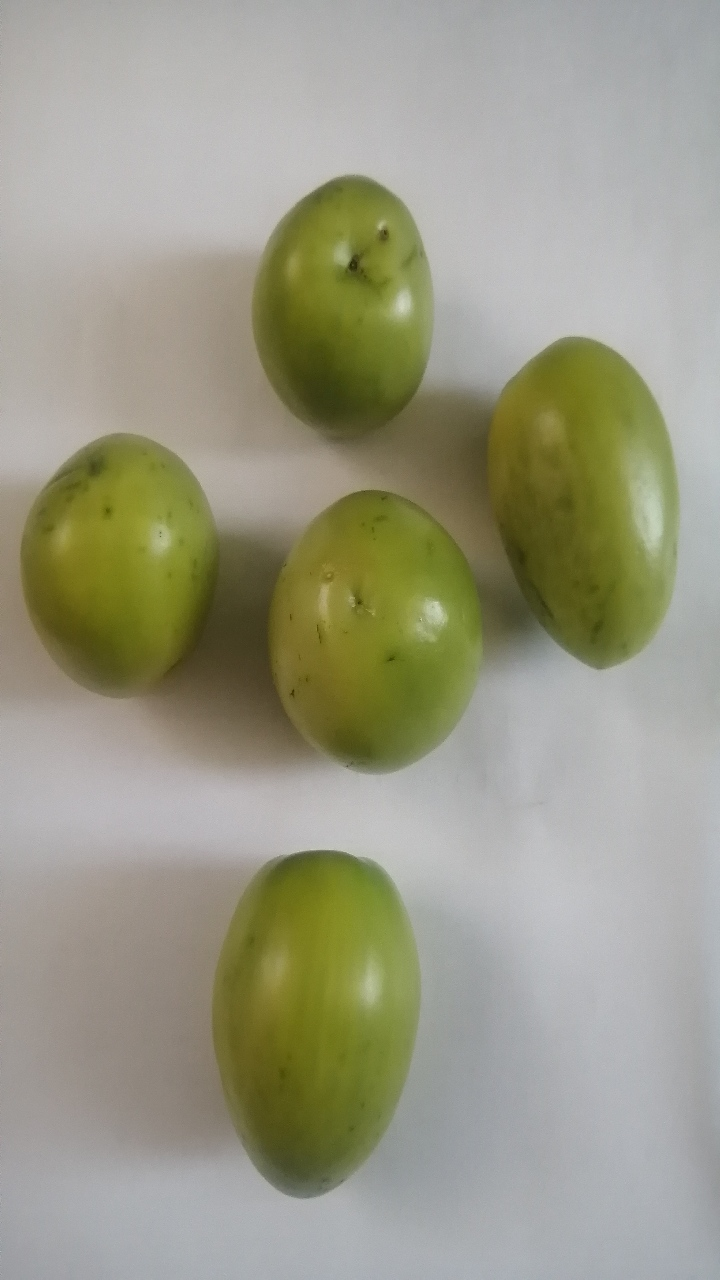tomateVerde: (184, 837, 455, 1211), (451, 308, 674, 689), (251, 462, 504, 797), (6, 417, 235, 725), (218, 152, 458, 439)
